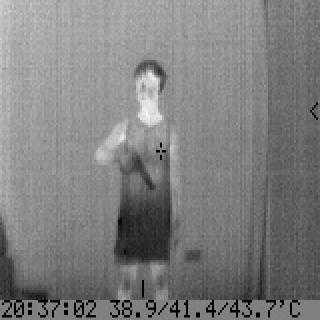Gun: (120, 148, 158, 190)
